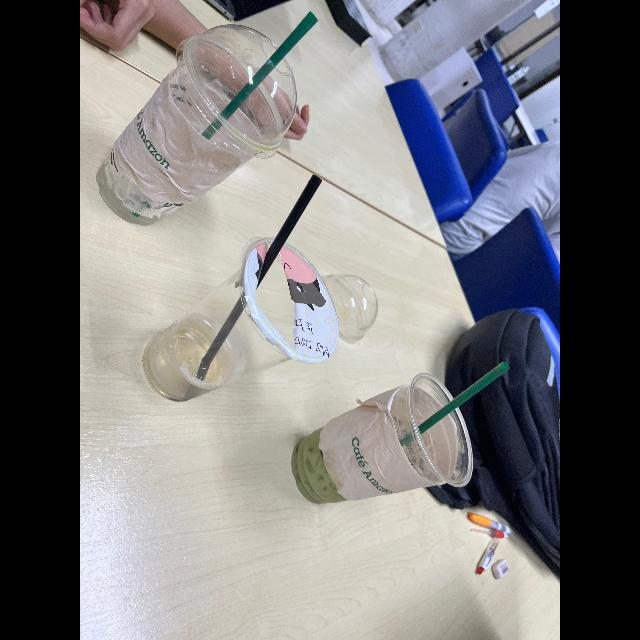plastic_cup: (83, 43, 273, 223), (126, 242, 322, 412), (279, 385, 475, 519)
plastic_cup_lid: (166, 24, 300, 144), (305, 266, 397, 346)
straw: (198, 170, 326, 380), (190, 13, 312, 147), (400, 350, 514, 450)
